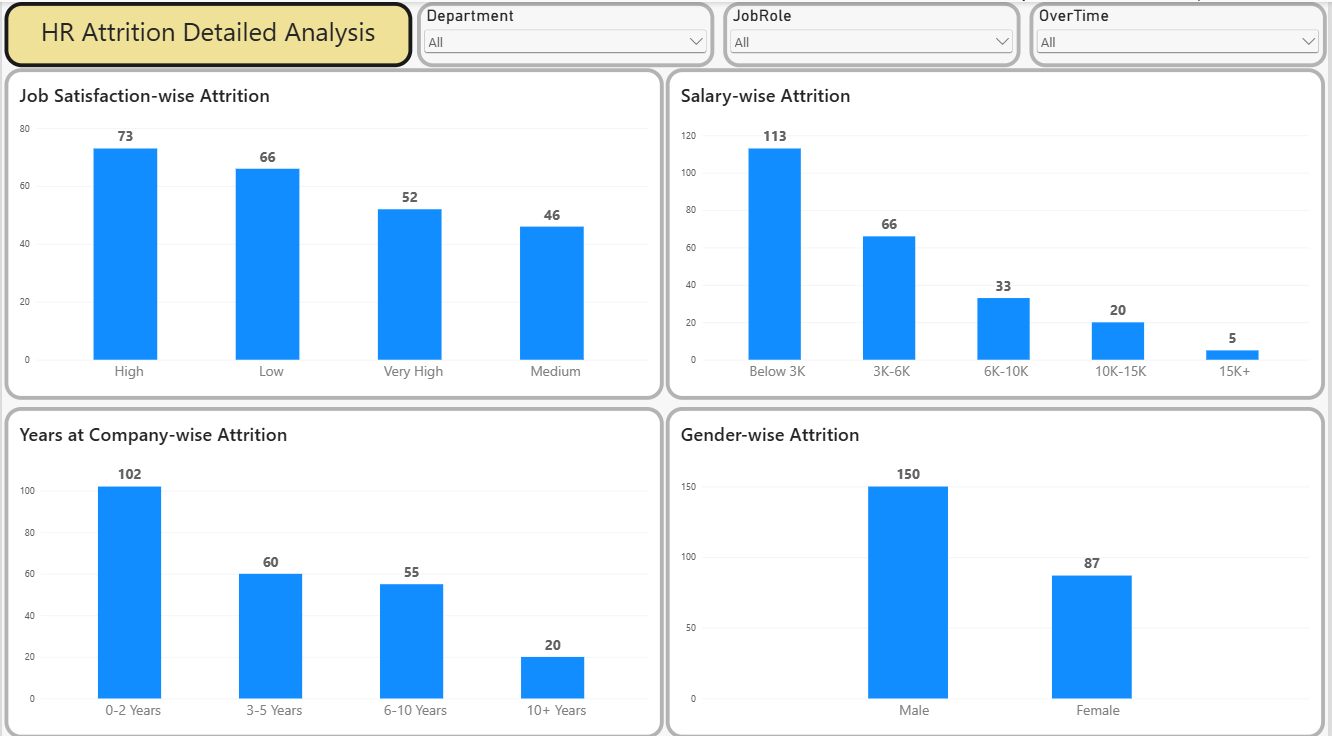

The page's visual inventory and layout, read from the dashboard file:
{"tool":"powerbi","page":{"name":"HR Attrition Detailed Analysis","canvas":[1920,1080],"ordinal":1},"visuals":[{"type":"clusteredColumnChart","title":"Job Satisfaction-wise Attrition","fields":{"Category":["HR_Employee_Attrition_Cleaned.JobSatisfaction_Level"],"Y":["HR_Employee_Attrition_Cleaned.Total Attrition"]},"box":[3,96,954,480],"z":0},{"type":"clusteredColumnChart","title":"Salary-wise Attrition","fields":{"Category":["HR_Employee_Attrition_Cleaned.Salary Group"],"Y":["HR_Employee_Attrition_Cleaned.Total Attrition"]},"box":[961,96,954,480],"z":1000},{"type":"clusteredColumnChart","title":"Years at Company-wise Attrition","fields":{"Category":["HR_Employee_Attrition_Cleaned.Tenure Group"],"Y":["HR_Employee_Attrition_Cleaned.Total Attrition"]},"box":[3,586,954,480],"z":2000},{"type":"clusteredColumnChart","title":"Gender-wise Attrition","fields":{"Category":["HR_Employee_Attrition_Cleaned.Gender"],"Y":["HR_Employee_Attrition_Cleaned.Total Attrition"]},"box":[961,586,954,480],"z":3000},{"type":"slicer","fields":{"Values":["HR_Employee_Attrition_Cleaned.Department"]},"box":[601,0,430,94],"z":4000},{"type":"slicer","fields":{"Values":["HR_Employee_Attrition_Cleaned.JobRole"]},"box":[1045,0,430,94],"z":5000},{"type":"slicer","fields":{"Values":["HR_Employee_Attrition_Cleaned.OverTime"]},"box":[1488,0,430,94],"z":6000},{"type":"textbox","box":[4,0,590,94],"z":7000}]}

Visuals, with their boxes in screenshot pixels (x1, y1, x2, y2), scaled from the page's 1920x1080 canvas onto the 1332x736 screenshot:
"Job Satisfaction-wise Attrition" clusteredColumnChart: 2, 65, 664, 393
"Salary-wise Attrition" clusteredColumnChart: 667, 65, 1329, 393
"Years at Company-wise Attrition" clusteredColumnChart: 2, 399, 664, 726
"Gender-wise Attrition" clusteredColumnChart: 667, 399, 1329, 726
slicer - HR_Employee_Attrition_Cleaned.Department: 417, 0, 715, 64
slicer - HR_Employee_Attrition_Cleaned.JobRole: 725, 0, 1023, 64
slicer - HR_Employee_Attrition_Cleaned.OverTime: 1032, 0, 1331, 64
textbox: 3, 0, 412, 64
